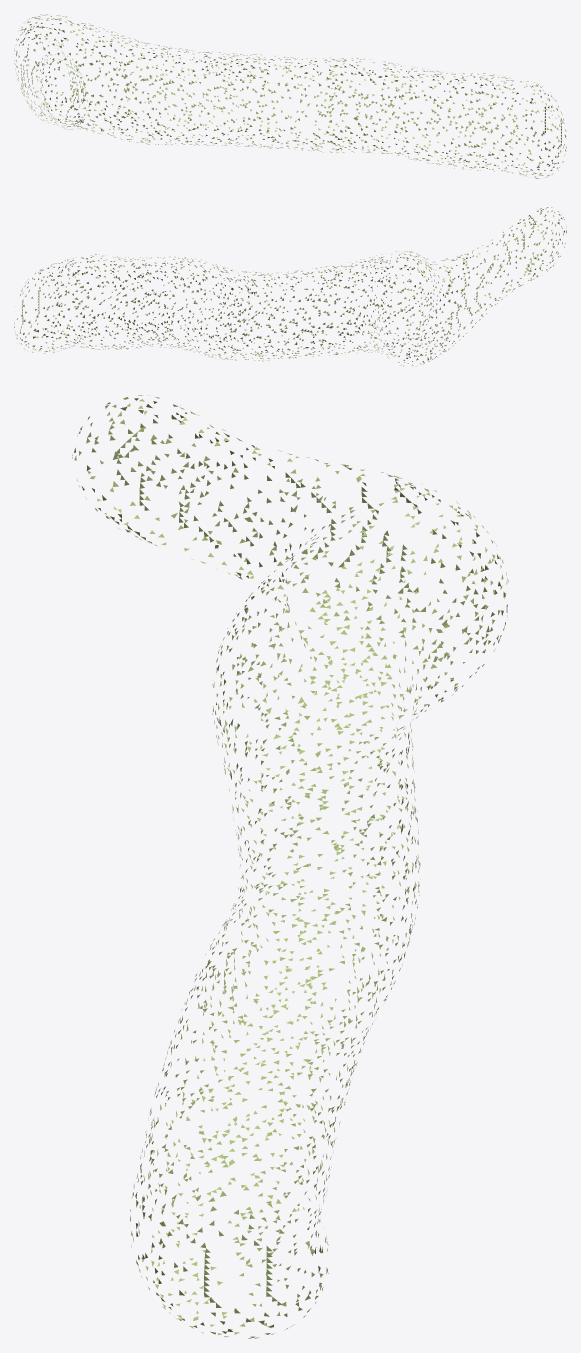
File: morph_011.glb
3 renders of one model, top to bottom at view 1: azimuth 30°, elevation 25°; view 2: azimuth 150°, elevation 25°; view 3: azimuth 270°, elevation 25°, orthographic. The views are drawn at different scales.
Bounding box in the file's own units: 137 × 62.39 × 51.58.
